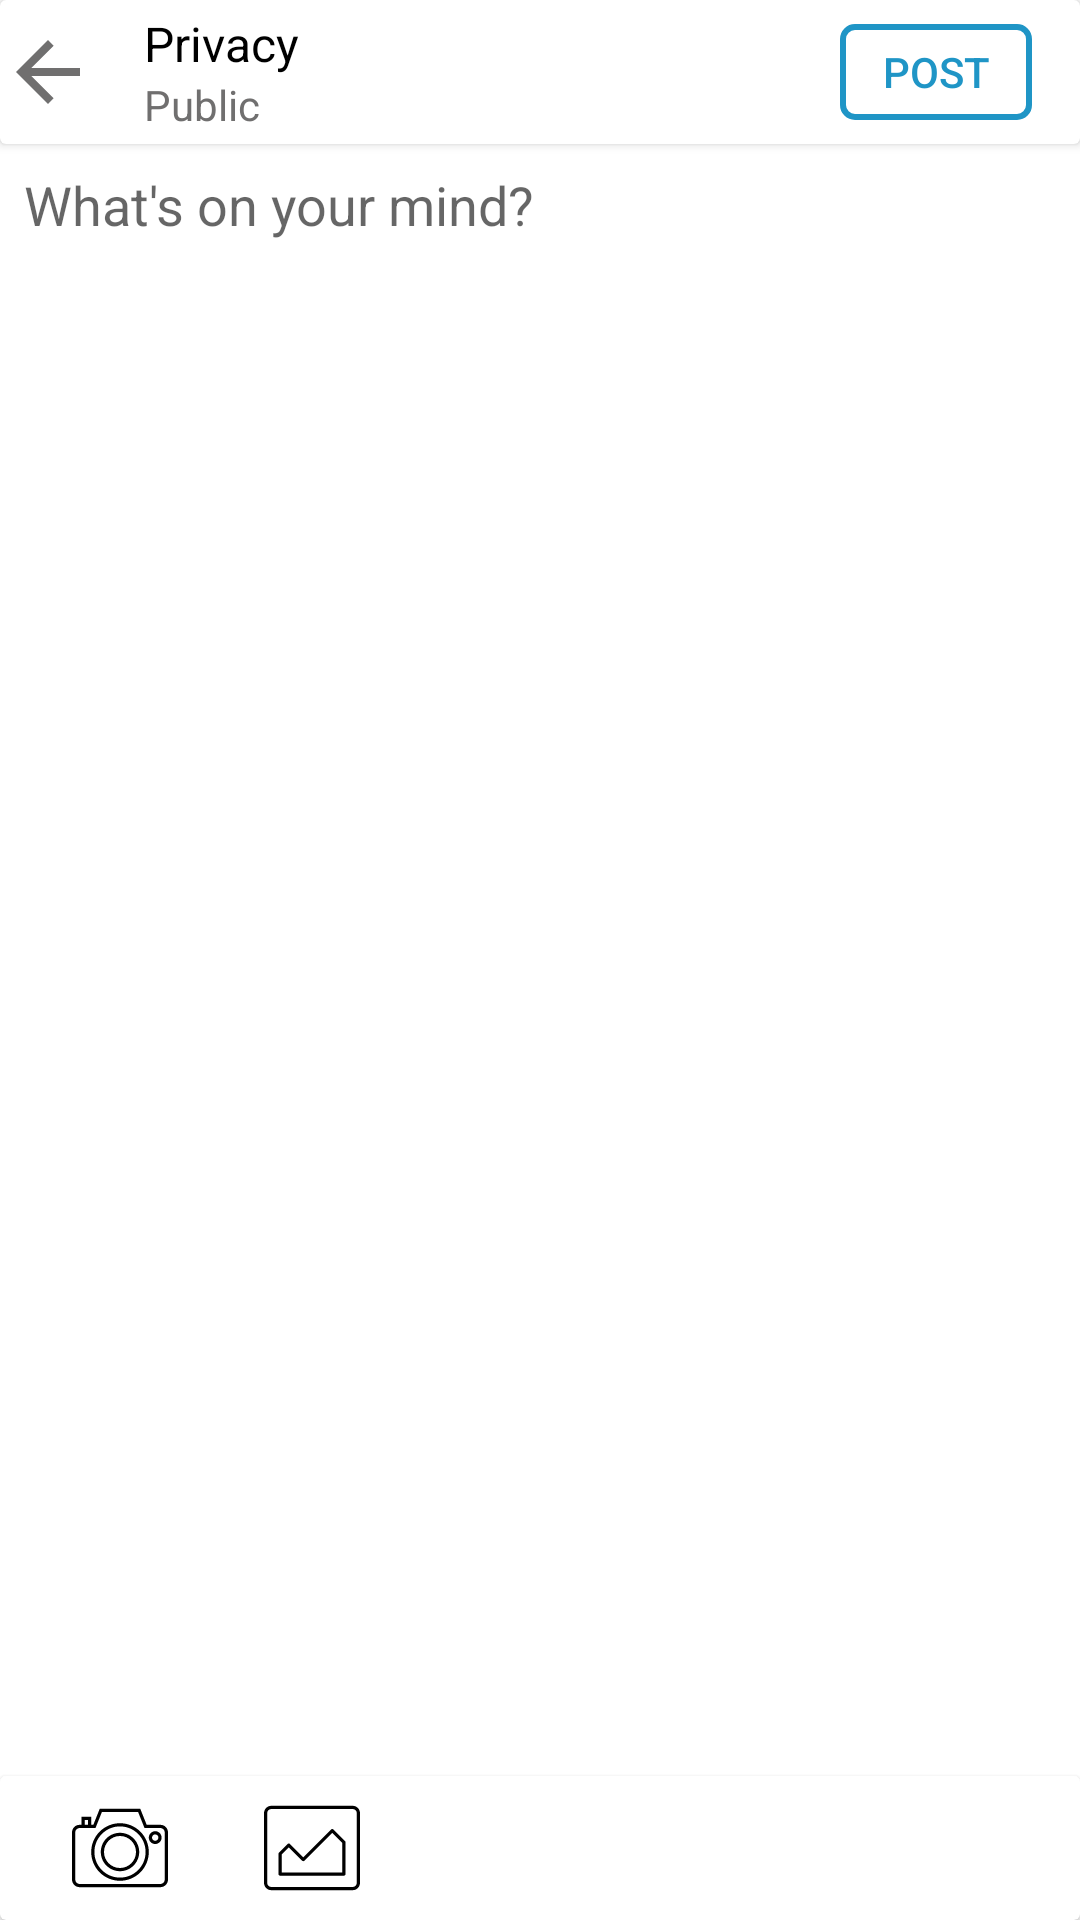

Named icons in this screenshot (1080×1920) and their bounding boxes, (x1, y1, x2, y2):
back: (16, 40, 80, 104)
photo camera: (72, 1808, 168, 1888)
